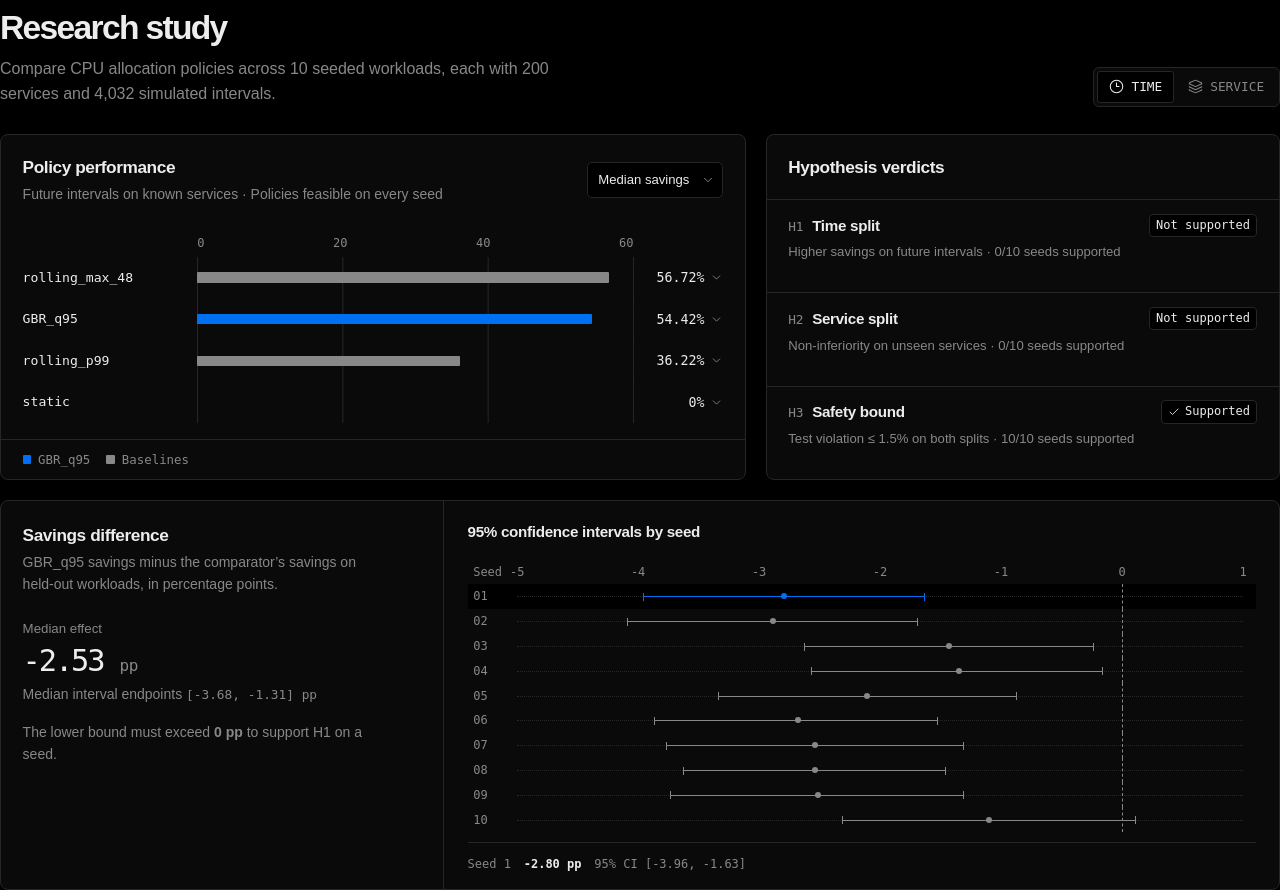
Scenario: StudyPage › switches recorded splits, inspects confidence intervals, and changes performance metrics
The width and height of the screenshot is (1280, 890).
Expected: the text "56.72%" is shown, [657,270,723,285]
Click the button "SERVICE" at coordinates (1226, 87), box [1176,71,1276,103]
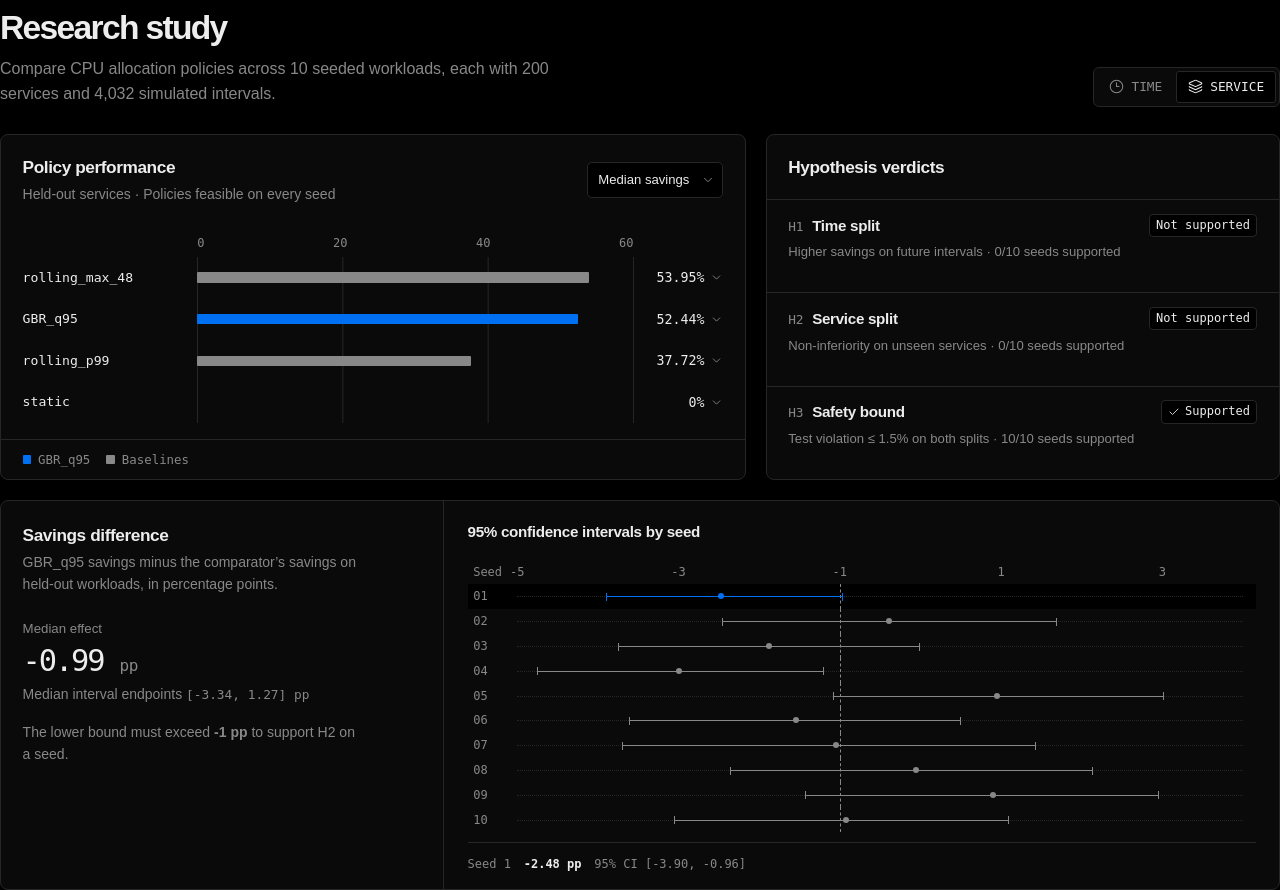
Now the text "53.95%" is shown, box [657,270,723,285]
Click the text "rolling_max_48" at coordinates (78, 277), box [23,270,133,285]
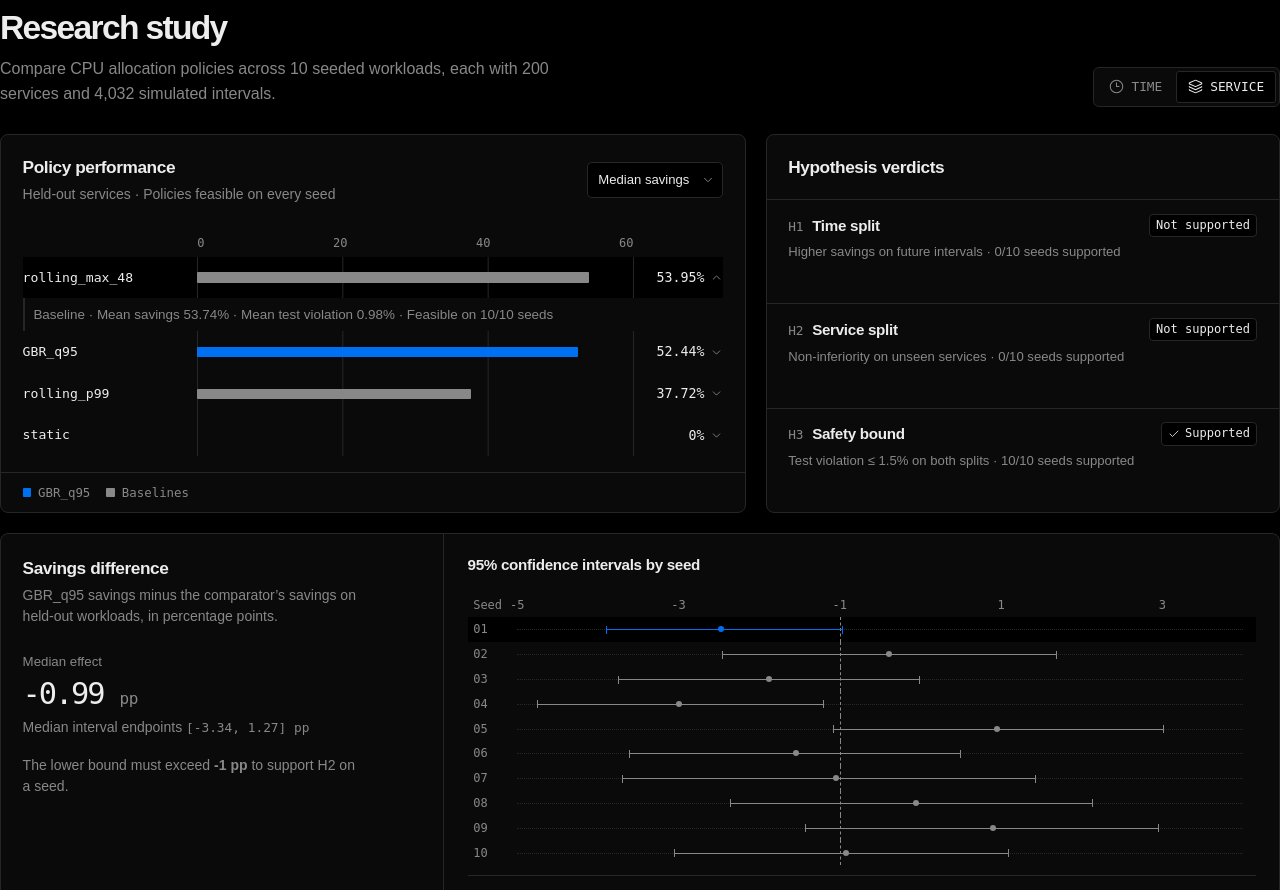
Now the text "Mean savings 53.74%" is shown, box [33,307,553,322]
Select "Median violation" in the dropdown named "Performance metric" at coordinates (655, 180), box [587,162,723,198]
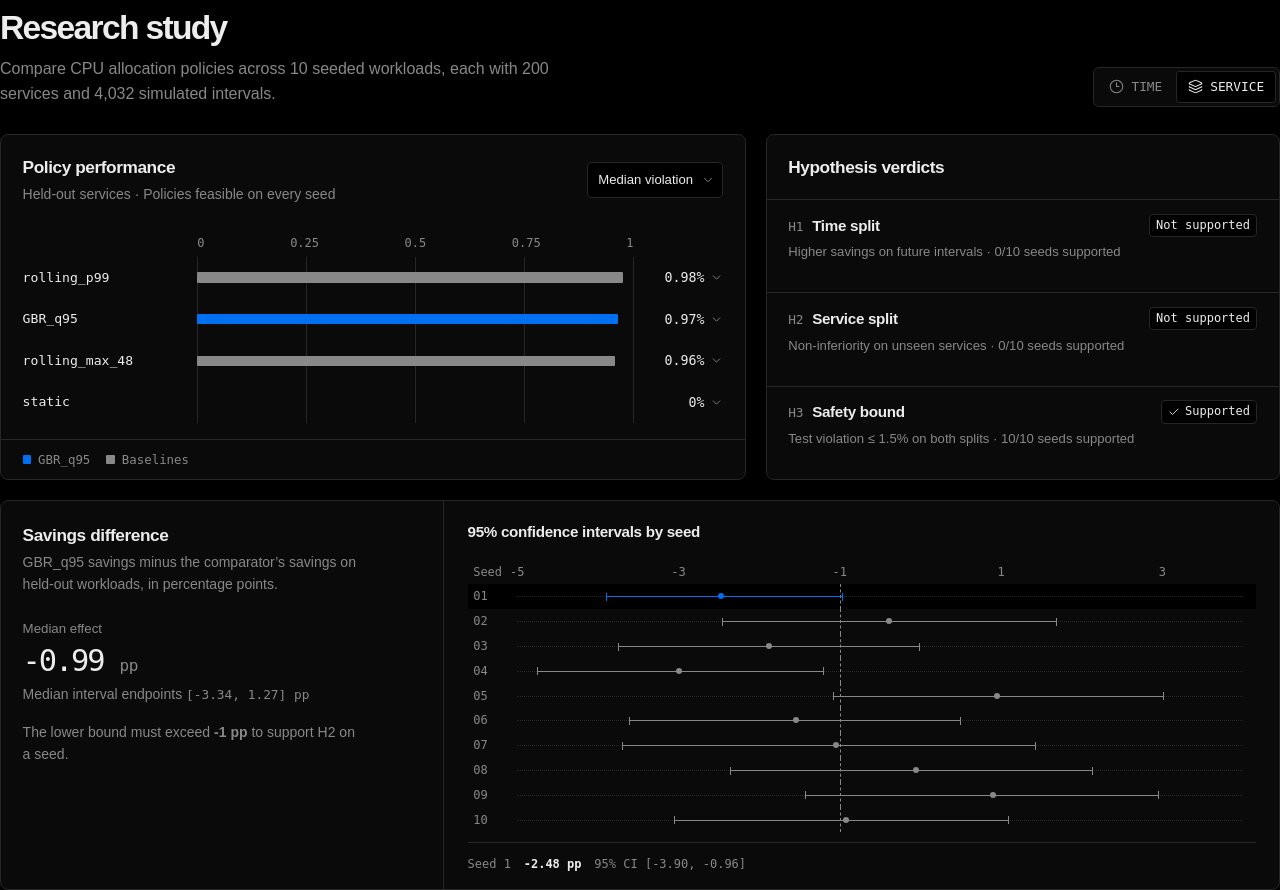
Now the text "0.96%" is shown, box [665,353,723,368]
Click the button named "Seed 5, effect 0.95 pp" at coordinates (480, 696), box [468,683,1256,708]
(page scrolled)
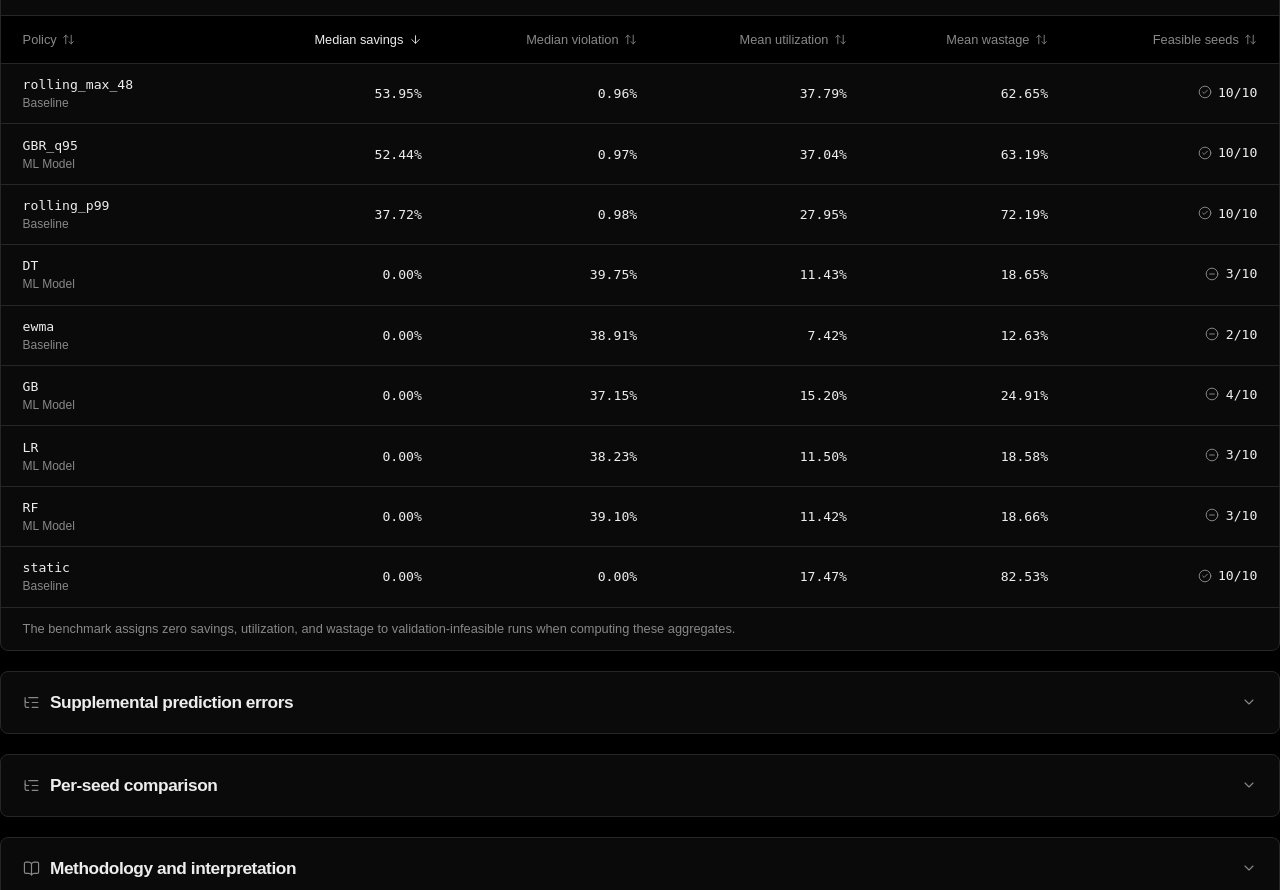
Click the heading "Per-seed comparison" at coordinates (134, 785), box [23,775,1257,795]
(page scrolled)
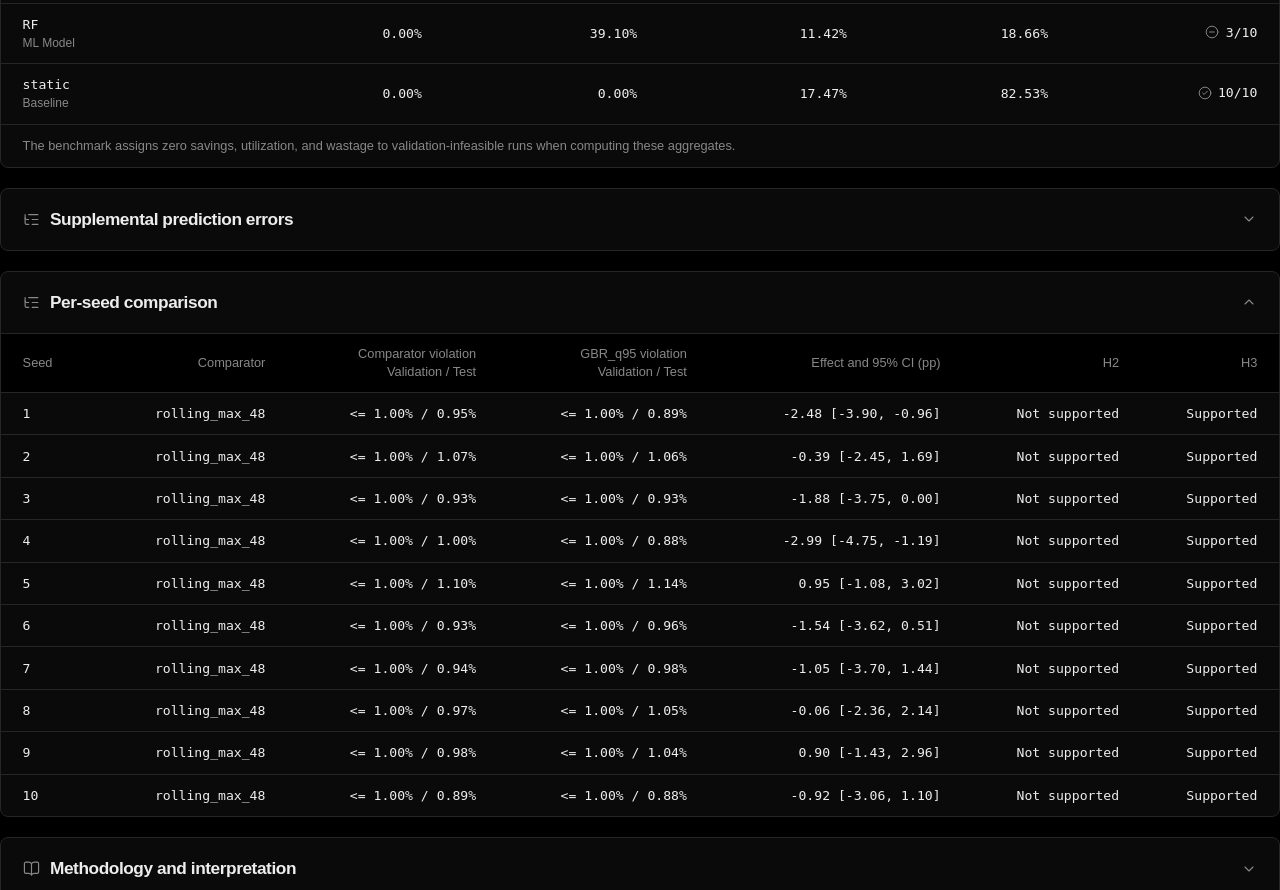
Now the text "0.95 [-1.08, 3.02]" is shown, box [1,562,1279,604]
